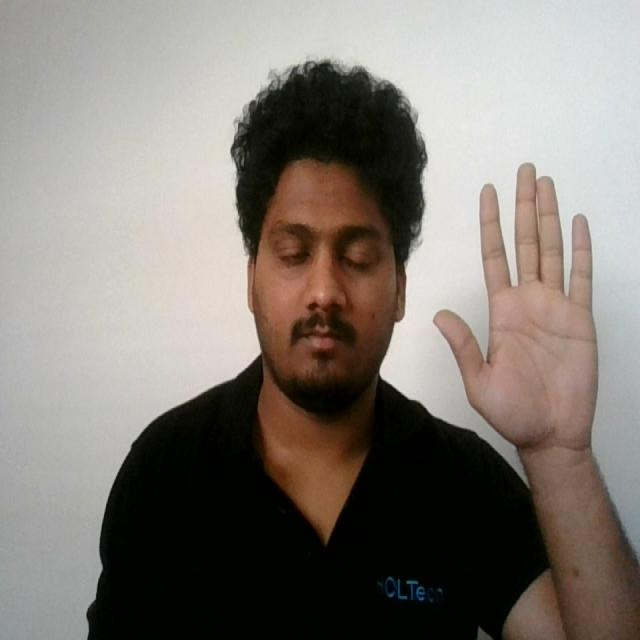Hello: (426, 155, 605, 464)
